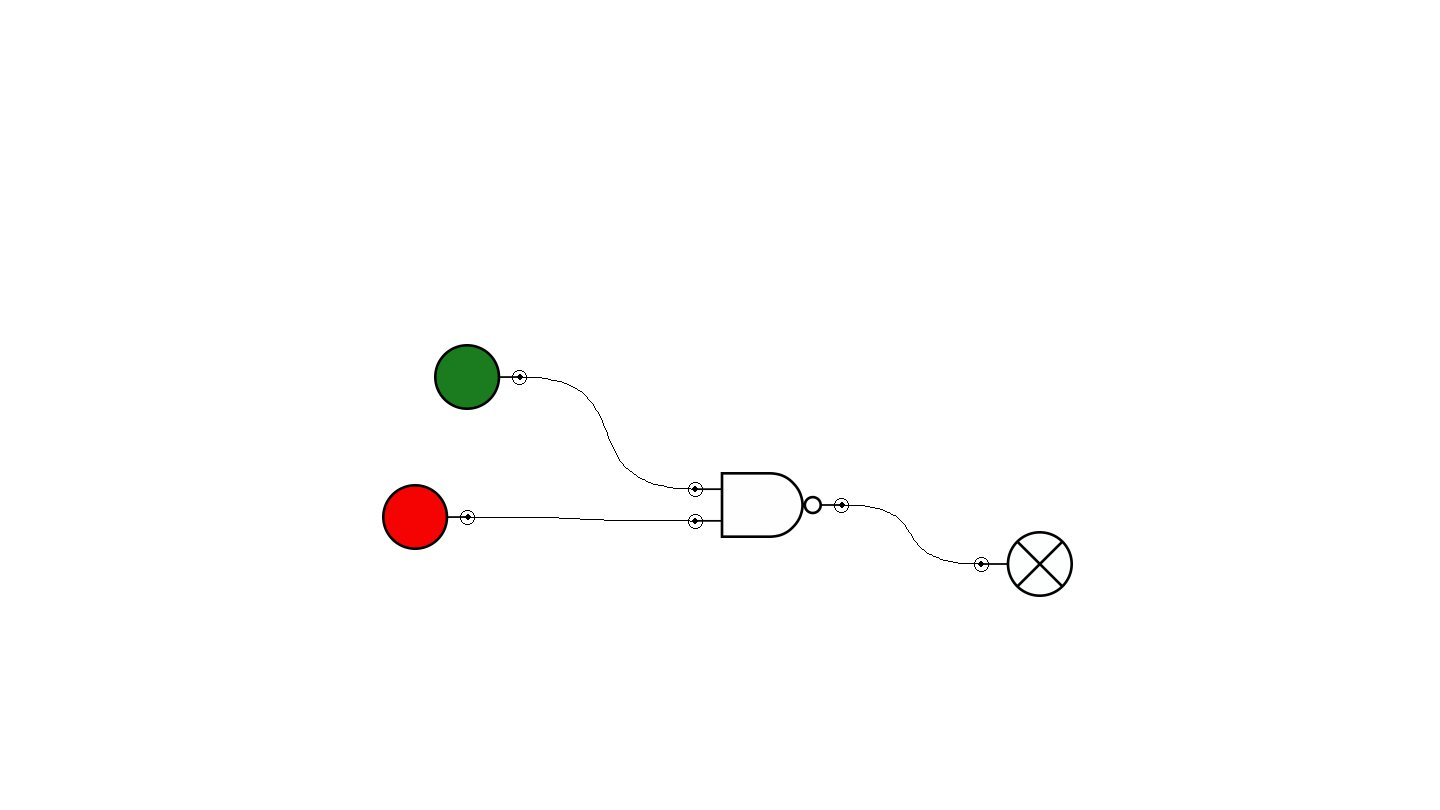bulb: (974, 531, 1073, 597)
nand: (688, 472, 849, 538)
switch_False: (382, 484, 475, 550)
switch_True: (434, 344, 527, 410)
